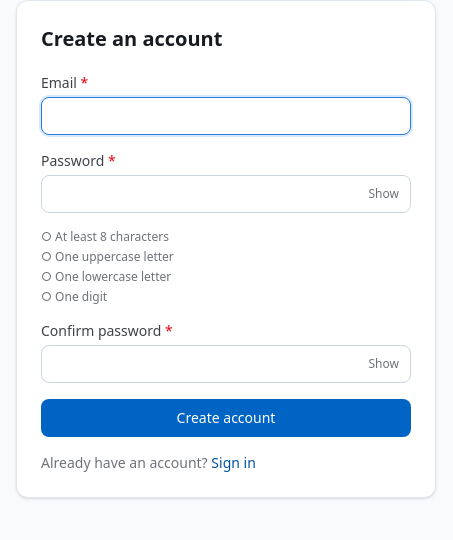
Test case: RegisterPage › maps a 409 onto the email field, which carries no errors bag
This screenshot has width=453, height=540.
Type "newuser@example.com" into the field labelled "Email *" at (226, 116), box x1=41 y1=97 x2=411 y2=135
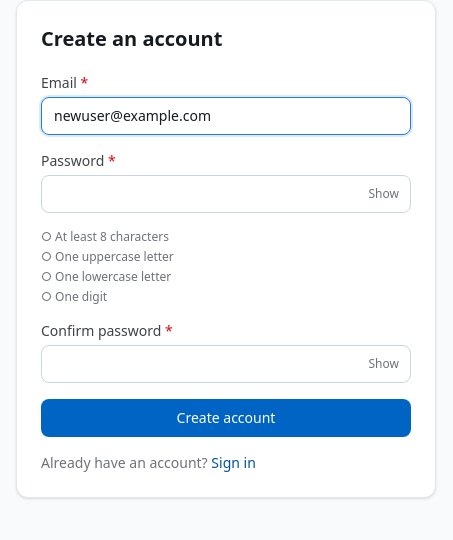
Type "Str0ngPassw0rd" into the password field labelled "Password *" at (226, 194), box x1=41 y1=175 x2=411 y2=213
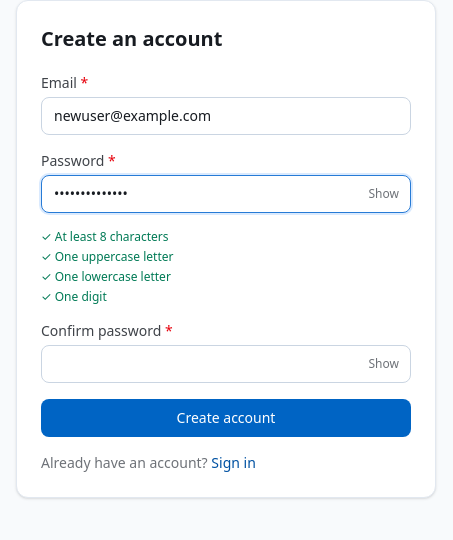
Type "Str0ngPassw0rd" into the password field labelled "Confirm password *" at (226, 364), box x1=41 y1=345 x2=411 y2=383
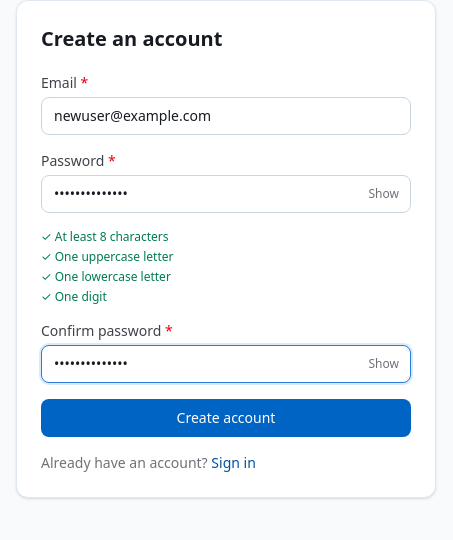
Click the button "Create account" at (226, 418), box x1=41 y1=399 x2=411 y2=437
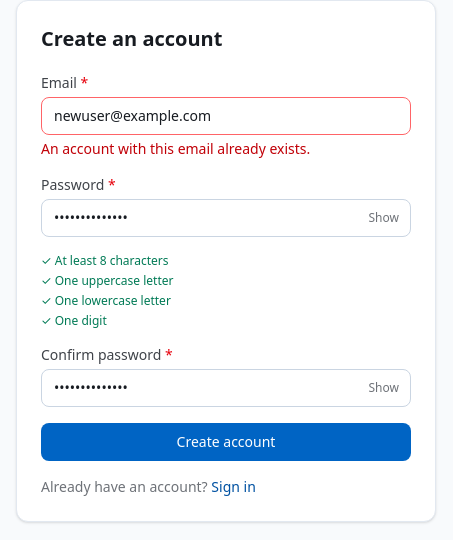
Result: the text "An account with this email already exists." is shown at x1=41 y1=139 x2=310 y2=158
